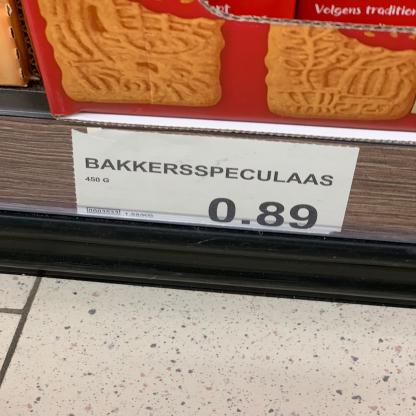prtg: (72, 128, 361, 237)
